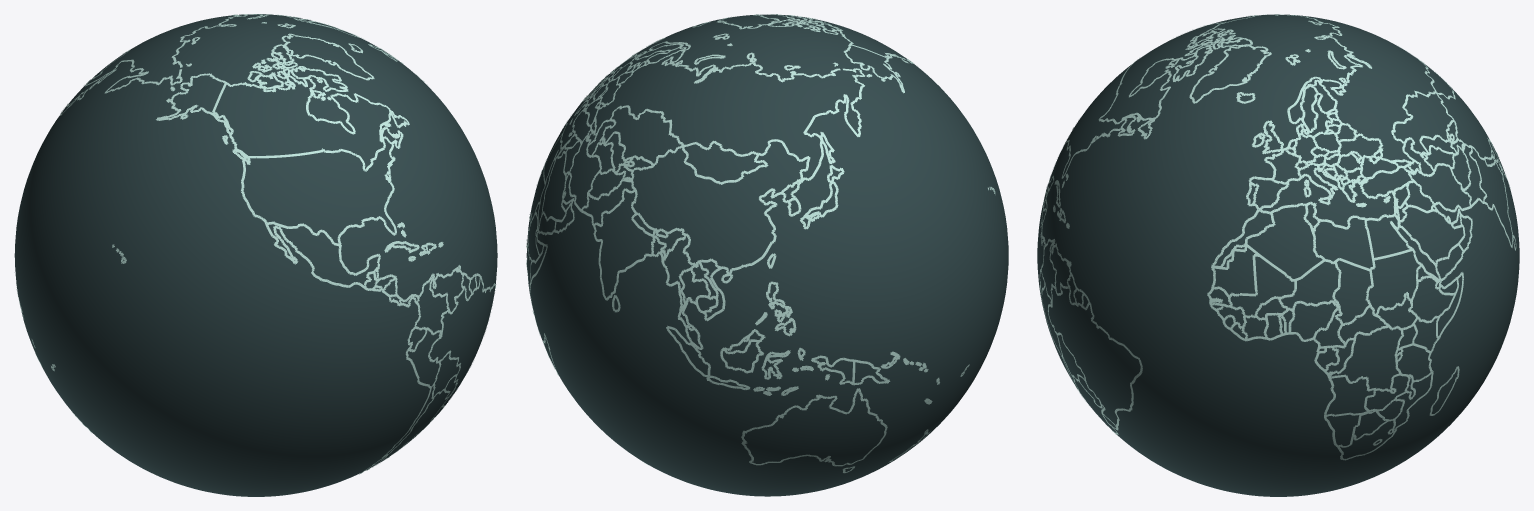
Rendered from globe.glb.
3 renders of one model, left to right at view 1: azimuth 30°, elevation 25°; view 2: azimuth 150°, elevation 25°; view 3: azimuth 270°, elevation 25°, orthographic.
Parts seen in each view (by area): view 1: ocean_sphere, land_outlines; view 2: ocean_sphere, land_outlines; view 3: ocean_sphere, land_outlines.
Part boxes in pixels (bbox=[...]): ocean_sphere: bbox=[14, 14, 497, 496]; land_outlines: bbox=[14, 14, 496, 474]; ocean_sphere: bbox=[526, 14, 1008, 496]; land_outlines: bbox=[526, 14, 995, 473]; ocean_sphere: bbox=[1037, 14, 1519, 496]; land_outlines: bbox=[1039, 14, 1516, 460].
Bounding box in the file's own units: 2 × 2 × 2.
